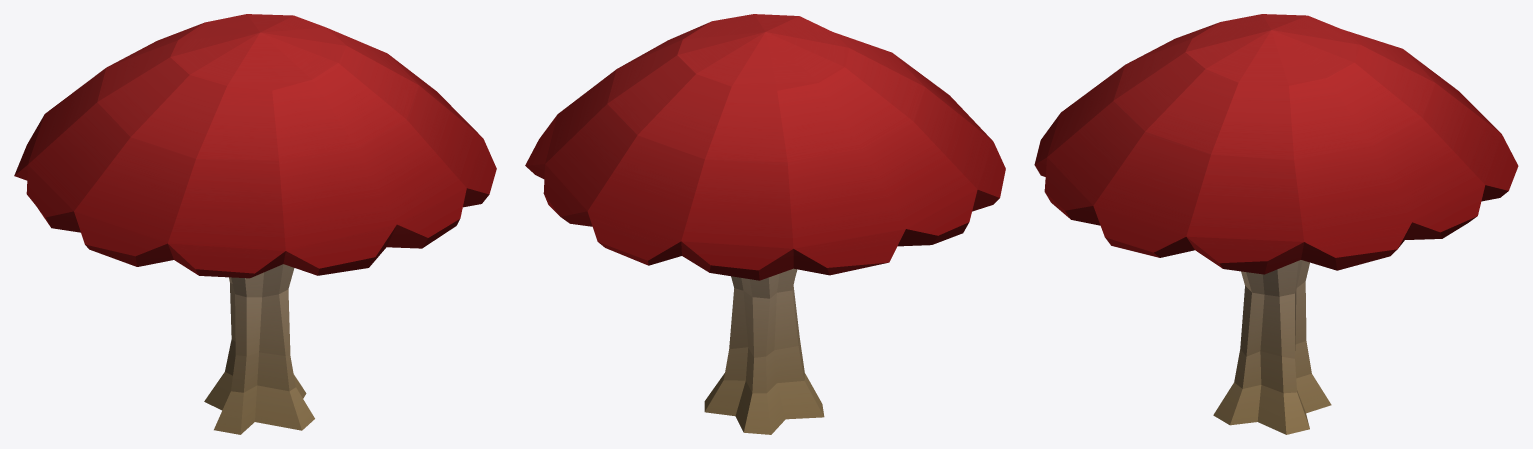
The model's file is Mushroom_Big_02.fbx.
The picture shows the model from 3 angles, left to right: view 1: azimuth 30°, elevation 25°; view 2: azimuth 150°, elevation 25°; view 3: azimuth 270°, elevation 25°; orthographic projection.
Visible parts, largest first — view 1: Mushroom_Big_02; view 2: Mushroom_Big_02; view 3: Mushroom_Big_02.
Boxes of the visible parts, x1=… form: Mushroom_Big_02: x1=14, y1=14, x2=496, y2=434; Mushroom_Big_02: x1=525, y1=14, x2=1005, y2=434; Mushroom_Big_02: x1=1034, y1=14, x2=1518, y2=434.
Bounding box in the file's own units: 338 × 300 × 347.
